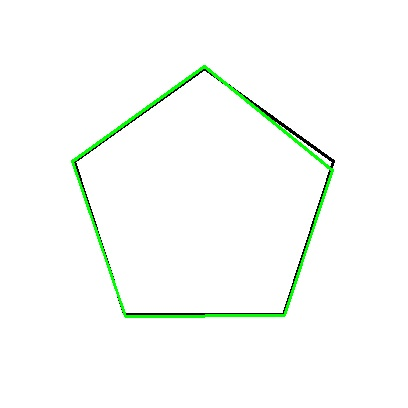line_segment: (72, 66, 335, 317)
